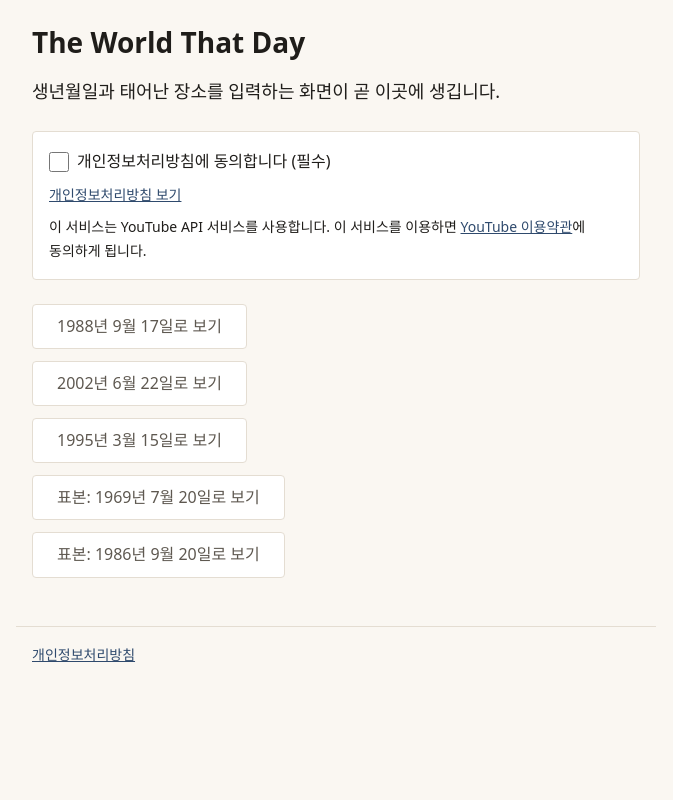
nothing kept in the browser (T2 (7)) › leaves storage, cookies and the address empty after the story
Click the checkbox labelled "개인정보처리방침에 동의합니다 (필수)" at x=59, y=162, box [49,152,69,172]
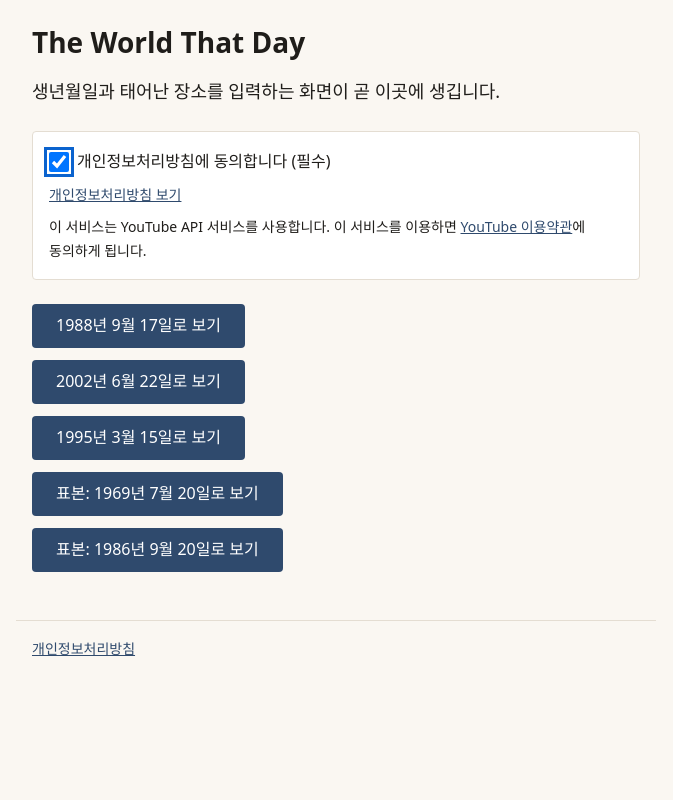
Click the button "1988년 9월 17일로 보기" at x=138, y=326, box [32,304,245,348]
(page scrolled)
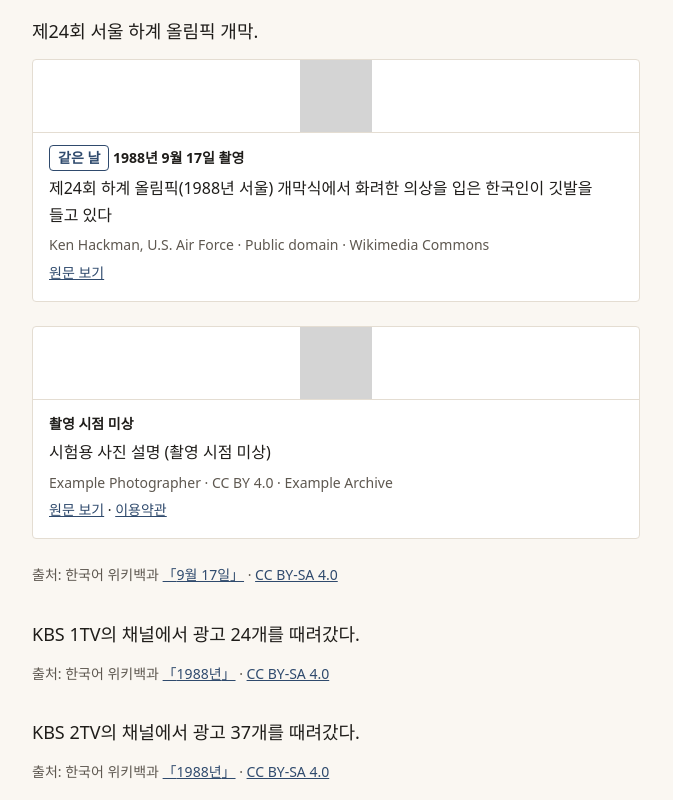
Expected: the list named "사건 목록" is shown
